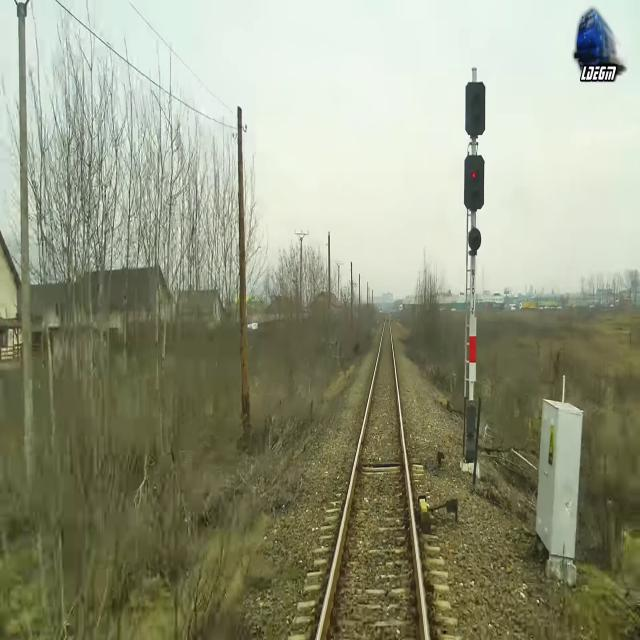rail-track: (320, 316, 424, 639)
